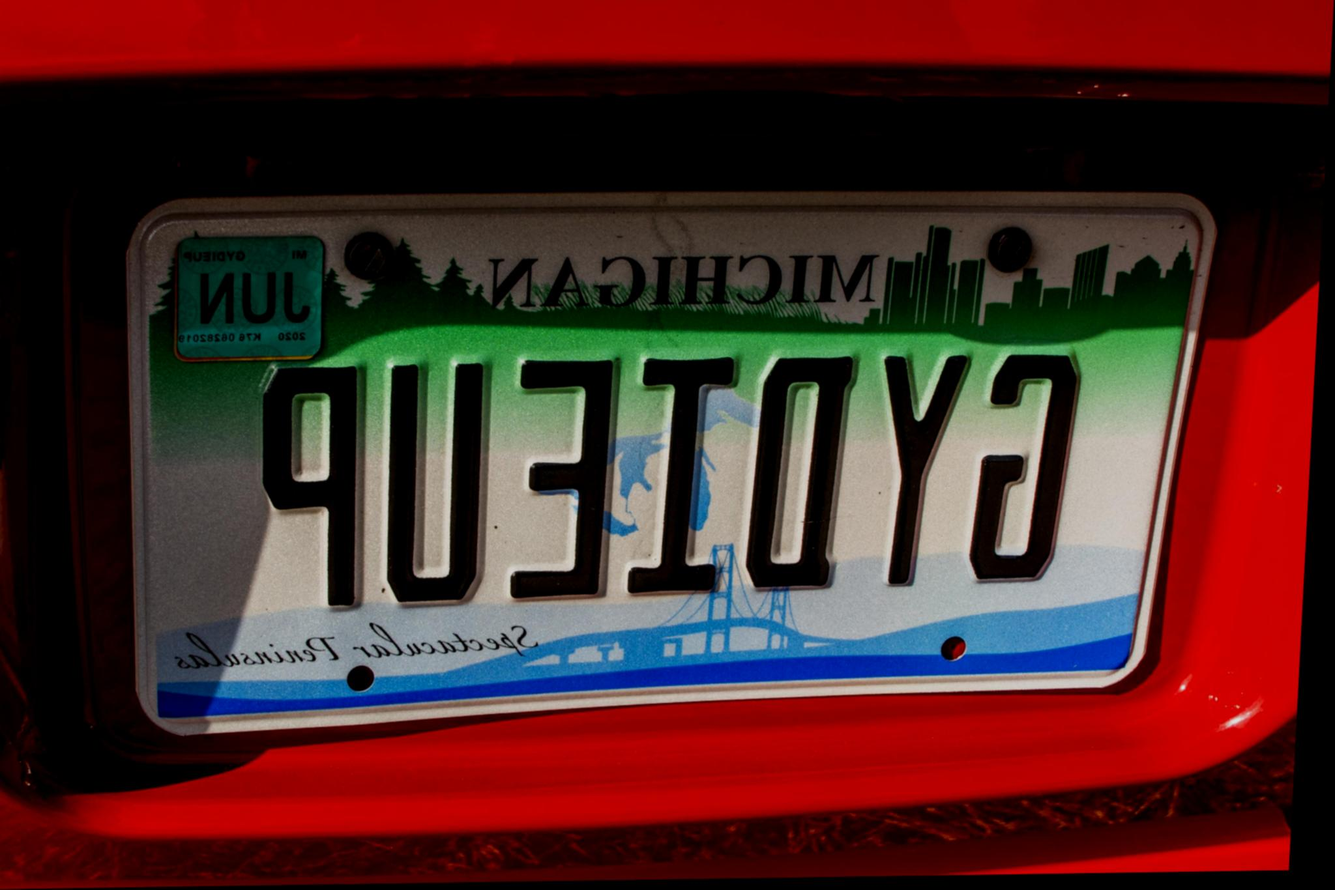License_Plate: (133, 201, 1154, 694)
